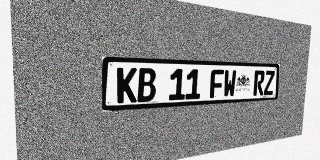1: (169, 69, 186, 100), (185, 69, 201, 99)
B: (137, 68, 156, 102)
F: (210, 69, 224, 98)
K: (117, 67, 137, 103)
R: (253, 70, 265, 96)
W: (223, 70, 236, 97)
Z: (263, 71, 275, 95)
